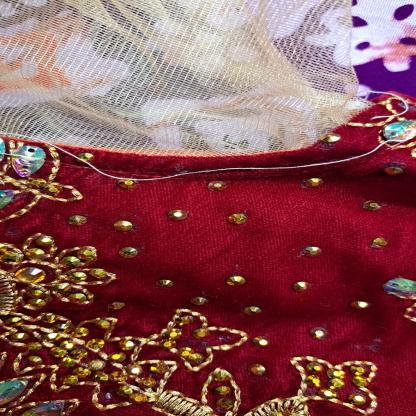spot: (188, 333, 235, 347), (354, 339, 392, 352), (7, 227, 28, 238), (96, 392, 116, 402), (232, 264, 245, 271)
